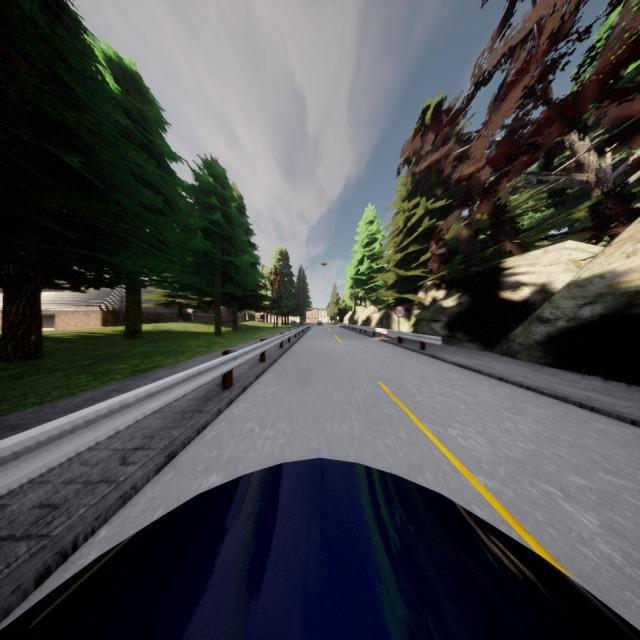Traffic_Signs: (394, 306, 405, 317), (336, 316, 339, 320)
Vehicle: (0, 457, 640, 640), (317, 320, 323, 326)
